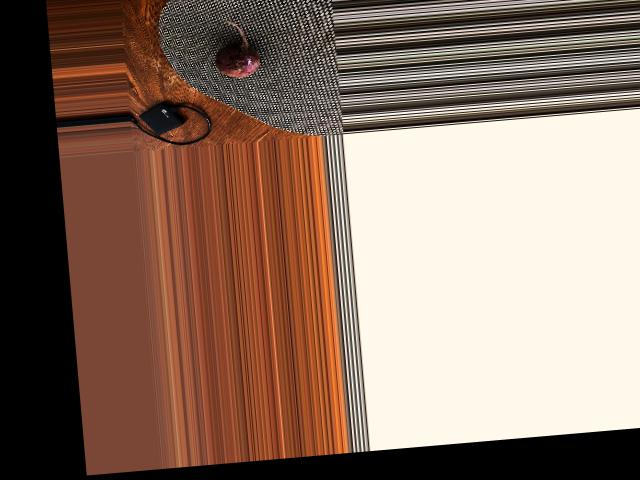beet: (211, 17, 261, 78)
